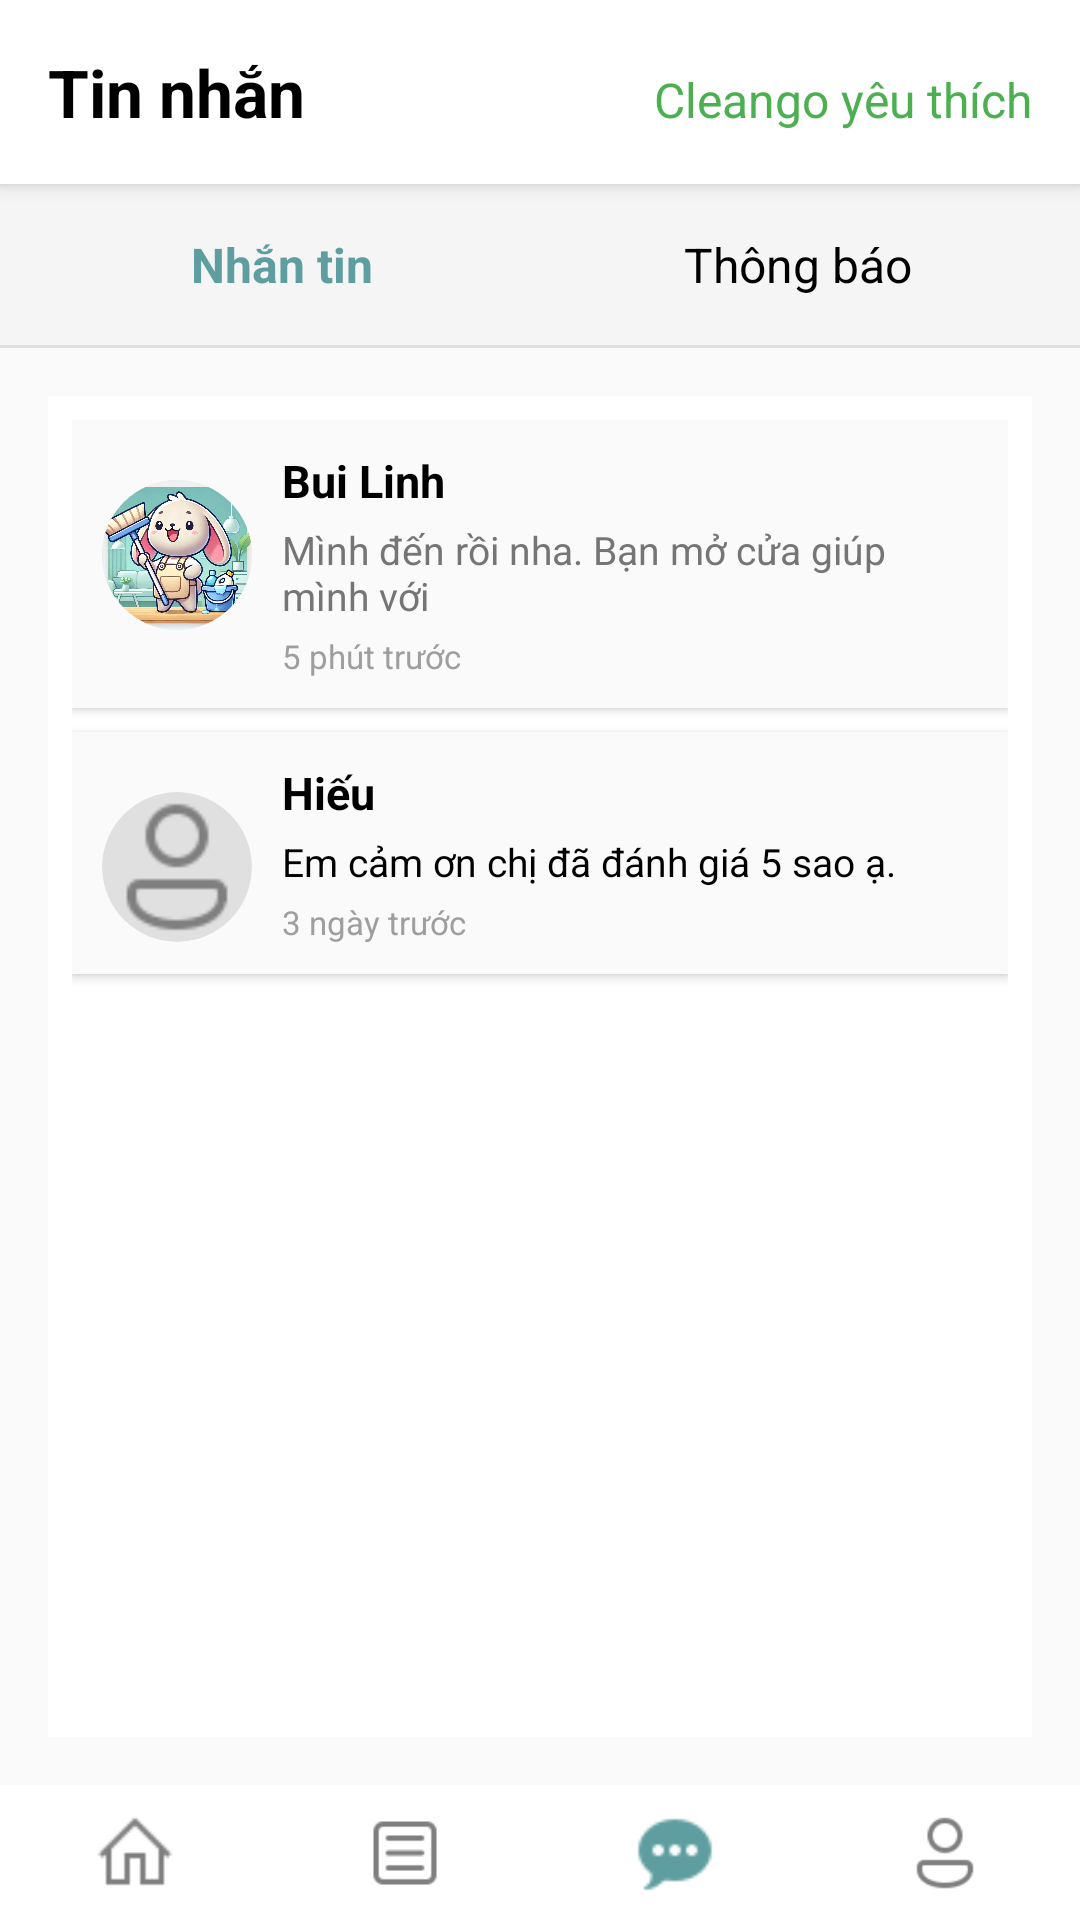

Point at icon controls on the screen. Image size 1080x1920, points as (x=x, y=y).
History: (x=405, y=1853)
Home: (x=135, y=1851)
Profile: (x=945, y=1853)
Support: (x=675, y=1854)
